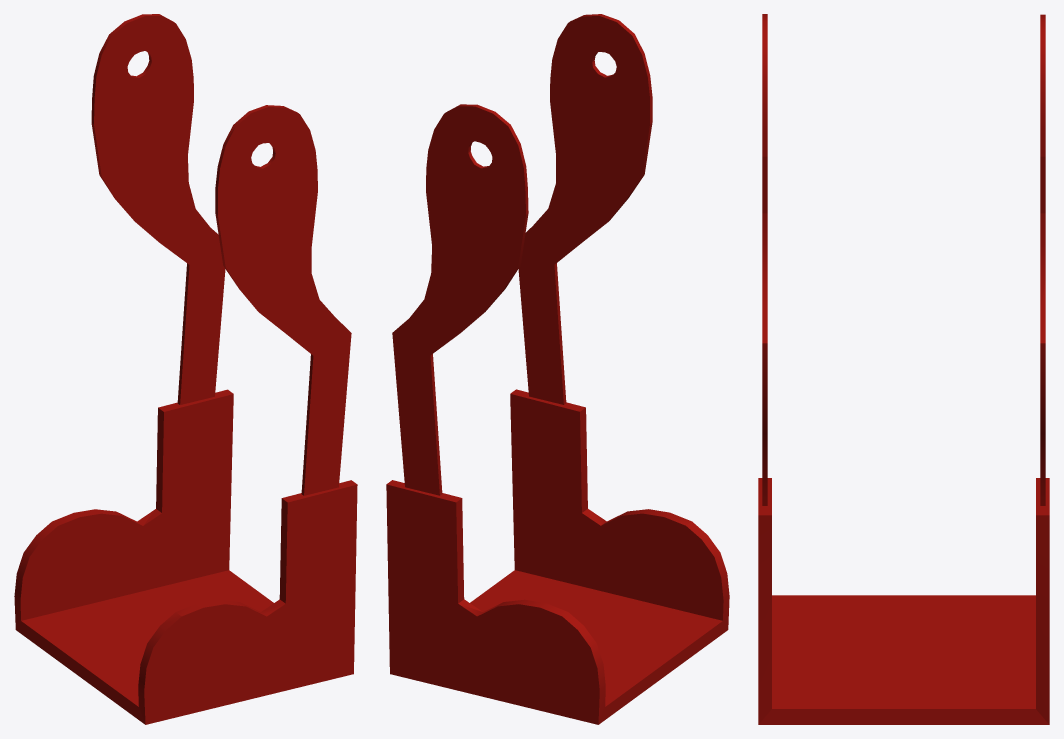
The model's file is bird_stand.obj.
3 views of the same model, side by side, from view 1: azimuth 30°, elevation 25°; view 2: azimuth 150°, elevation 25°; view 3: azimuth 270°, elevation 25° (orthographic). The views are drawn at different scales.
Parts seen in each view (by area): view 1: entry_12481_pkOBJ; view 2: entry_12481_pkOBJ; view 3: entry_12481_pkOBJ.
Boxes of the visible parts, <box> form: entry_12481_pkOBJ: <box>14,14,357,724</box>; entry_12481_pkOBJ: <box>386,14,729,724</box>; entry_12481_pkOBJ: <box>758,14,1049,724</box>.
Bounding box in the file's own units: 1.28 × 3.36 × 1.35.
